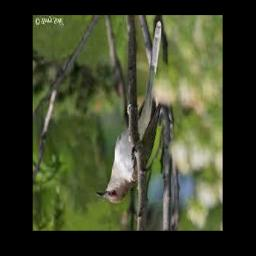Cuckoo: (96, 19, 163, 204)
